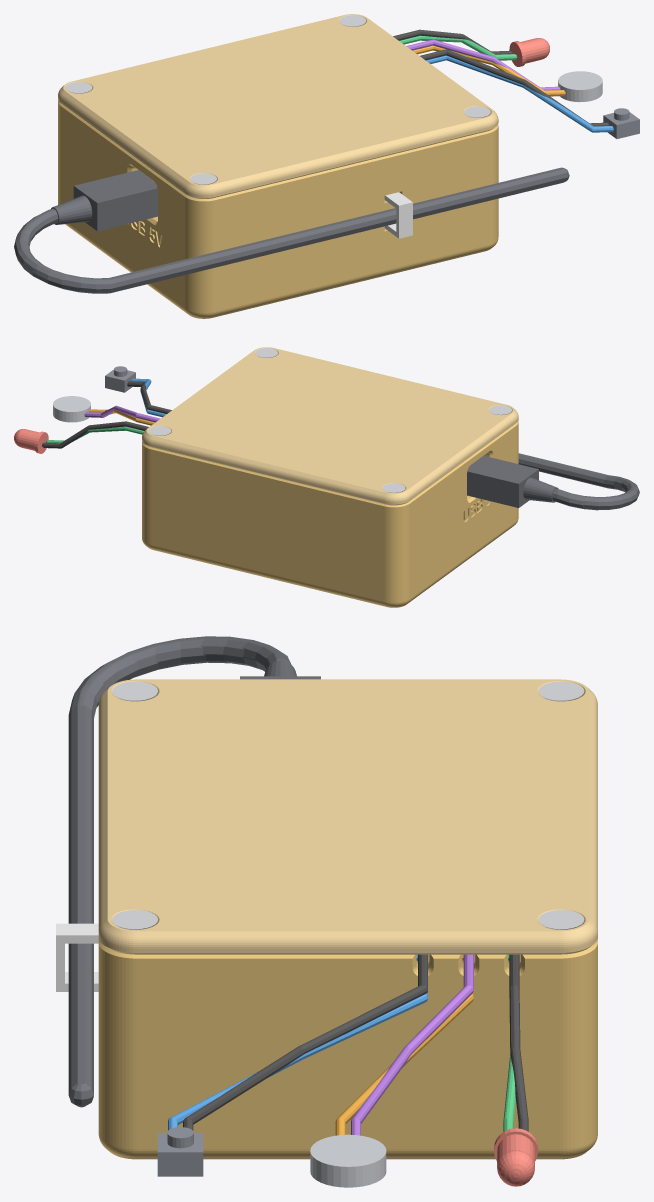
Rendered from assembly-usb-38pin.glb.
The picture shows the model from 3 angles, top to bottom: view 1: azimuth 30°, elevation 25°; view 2: azimuth 150°, elevation 25°; view 3: azimuth 270°, elevation 25°; orthographic projection. The views are drawn at different scales.
Parts seen in each view (by area): view 1: Lid (printed), Box body (printed), USB cable from the power bank, GND (black), Coin vibration motor, Paw button, GPIO 27 (blue), 4 x M3x10 countersunk lid screws, Cable tie (strain relief), LED, Paw push button, Motor -, to collector (purple), LED signal, GPIO 25 (green) (+1 smaller); view 2: Box body (printed), Lid (printed), USB cable from the power bank, GND (black), Coin vibration motor, 4 x M3x10 countersunk lid screws, LED, Paw push button, Motor -, to collector (purple); view 3: Lid (printed), Box body (printed), USB cable from the power bank, GND (black), Coin vibration motor, 4 x M3x10 countersunk lid screws, Motor -, to collector (purple), Paw push button, LED, Paw button, GPIO 27 (blue), Cable tie (strain relief), Motor +, after R3 (orange).
Boxes of the visible parts, x1=… form: Lid (printed): x1=58, y1=14, x2=498, y2=198; Box body (printed): x1=58, y1=100, x2=498, y2=318; USB cable from the power bank: x1=14, y1=167, x2=569, y2=293; GND (black): x1=393, y1=29, x2=609, y2=126; Coin vibration motor: x1=558, y1=71, x2=602, y2=102; Paw button, GPIO 27 (blue): x1=426, y1=55, x2=613, y2=132; 4 x M3x10 countersunk lid screws: x1=65, y1=15, x2=490, y2=184; Cable tie (strain relief): x1=384, y1=192, x2=412, y2=238; LED: x1=509, y1=38, x2=549, y2=66; Paw push button: x1=603, y1=108, x2=639, y2=138; Motor -, to collector (purple): x1=406, y1=39, x2=560, y2=90; LED signal, GPIO 25 (green): x1=399, y1=35, x2=517, y2=60; Box body (printed): x1=142, y1=421, x2=518, y2=607; Lid (printed): x1=142, y1=347, x2=518, y2=505; USB cable from the power bank: x1=467, y1=453, x2=639, y2=510; GND (black): x1=42, y1=381, x2=171, y2=448; Coin vibration motor: x1=53, y1=396, x2=90, y2=422; 4 x M3x10 countersunk lid screws: x1=148, y1=348, x2=511, y2=493; LED: x1=14, y1=429, x2=48, y2=453; Paw push button: x1=105, y1=366, x2=135, y2=392; Motor -, to collector (purple): x1=84, y1=405, x2=160, y2=422; Lid (printed): x1=98, y1=679, x2=597, y2=954; Box body (printed): x1=98, y1=939, x2=597, y2=1159; USB cable from the power bank: x1=68, y1=636, x2=320, y2=1107; GND (black): x1=183, y1=954, x2=528, y2=1131; Coin vibration motor: x1=310, y1=1134, x2=386, y2=1187; 4 x M3x10 countersunk lid screws: x1=112, y1=681, x2=584, y2=929; Motor -, to collector (purple): x1=351, y1=954, x2=473, y2=1135; Paw push button: x1=157, y1=1127, x2=203, y2=1176; LED: x1=494, y1=1128, x2=538, y2=1186; Paw button, GPIO 27 (blue): x1=168, y1=954, x2=427, y2=1130; Cable tie (strain relief): x1=56, y1=923, x2=98, y2=991; Motor +, after R3 (orange): x1=335, y1=954, x2=473, y2=1135.
Size of the model in its own units: 0.1621 by 0.033 by 0.0711.
